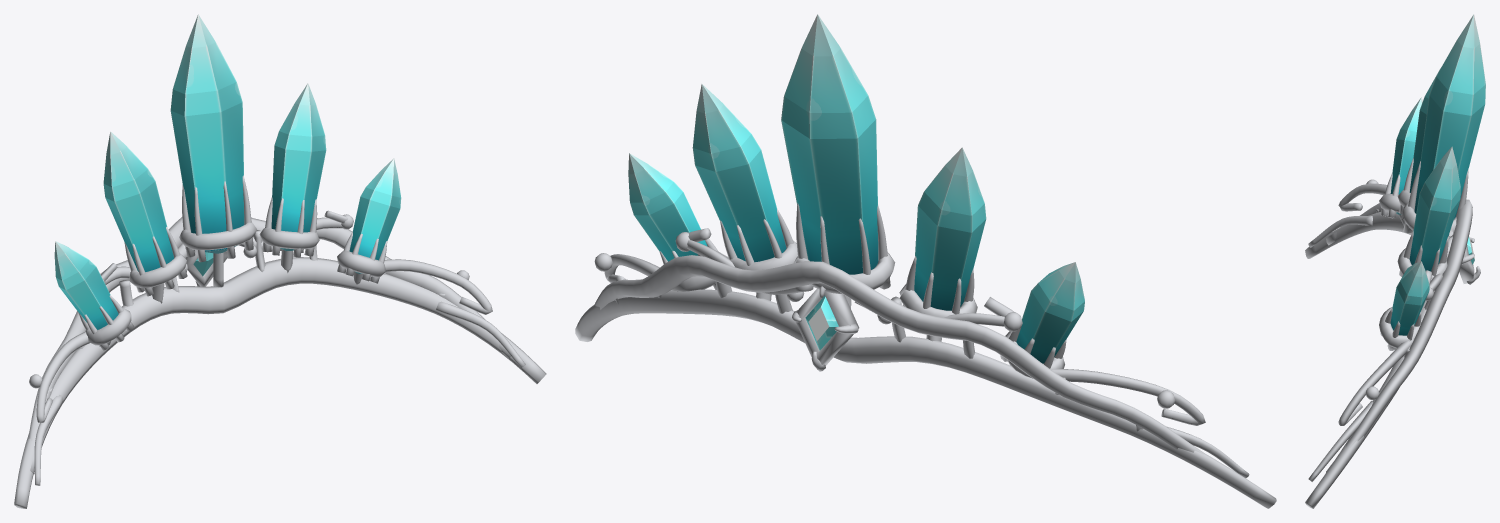
File: astrea_tiara.fbx
3 renders of one model, left to right at view 1: azimuth 30°, elevation 25°; view 2: azimuth 150°, elevation 25°; view 3: azimuth 270°, elevation 25°, orthographic. The views are drawn at different scales.
Visible parts, largest first — view 1: AstreaTiaraFrame, AstreaTiaraCrystals; view 2: AstreaTiaraCrystals, AstreaTiaraFrame; view 3: AstreaTiaraCrystals, AstreaTiaraFrame.
Part boxes in pixels (x1=…): AstreaTiaraFrame: x1=14, y1=175, x2=546, y2=508; AstreaTiaraCrystals: x1=54, y1=14, x2=401, y2=329; AstreaTiaraCrystals: x1=628, y1=14, x2=1084, y2=363; AstreaTiaraFrame: x1=575, y1=203, x2=1276, y2=508; AstreaTiaraCrystals: x1=1390, y1=14, x2=1485, y2=335; AstreaTiaraFrame: x1=1305, y1=158, x2=1480, y2=508.
Size of the model in its own units: 113 by 75.63 by 33.58.
2 materials, 1 textured.
